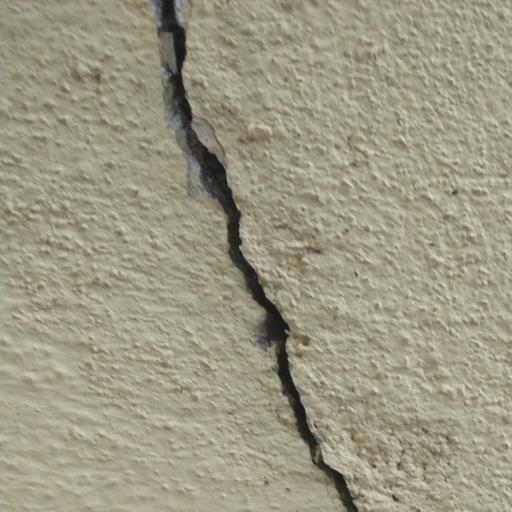major_crack: (142, 0, 368, 512)
